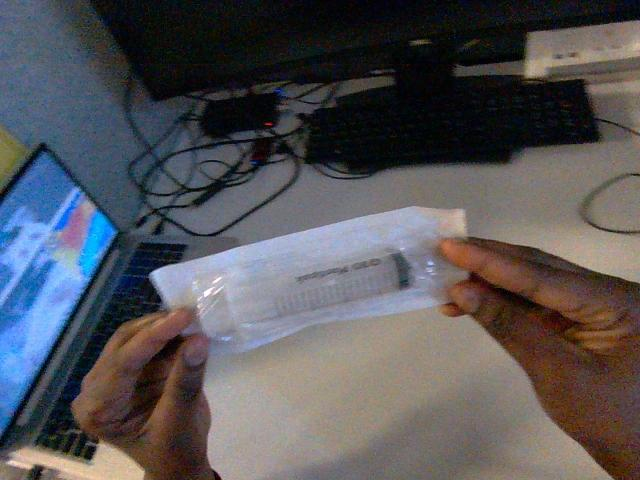syringe: (151, 207, 466, 352)
